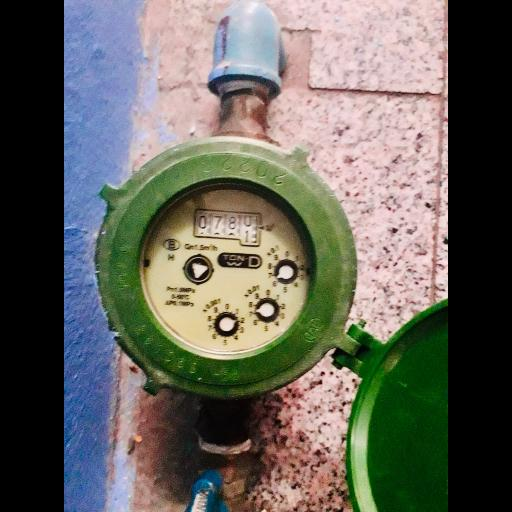0: (240, 216, 258, 243), (195, 213, 211, 235)
7: (210, 213, 227, 236)
8: (225, 214, 242, 237)
border_water_meter_number: (192, 209, 263, 247)
